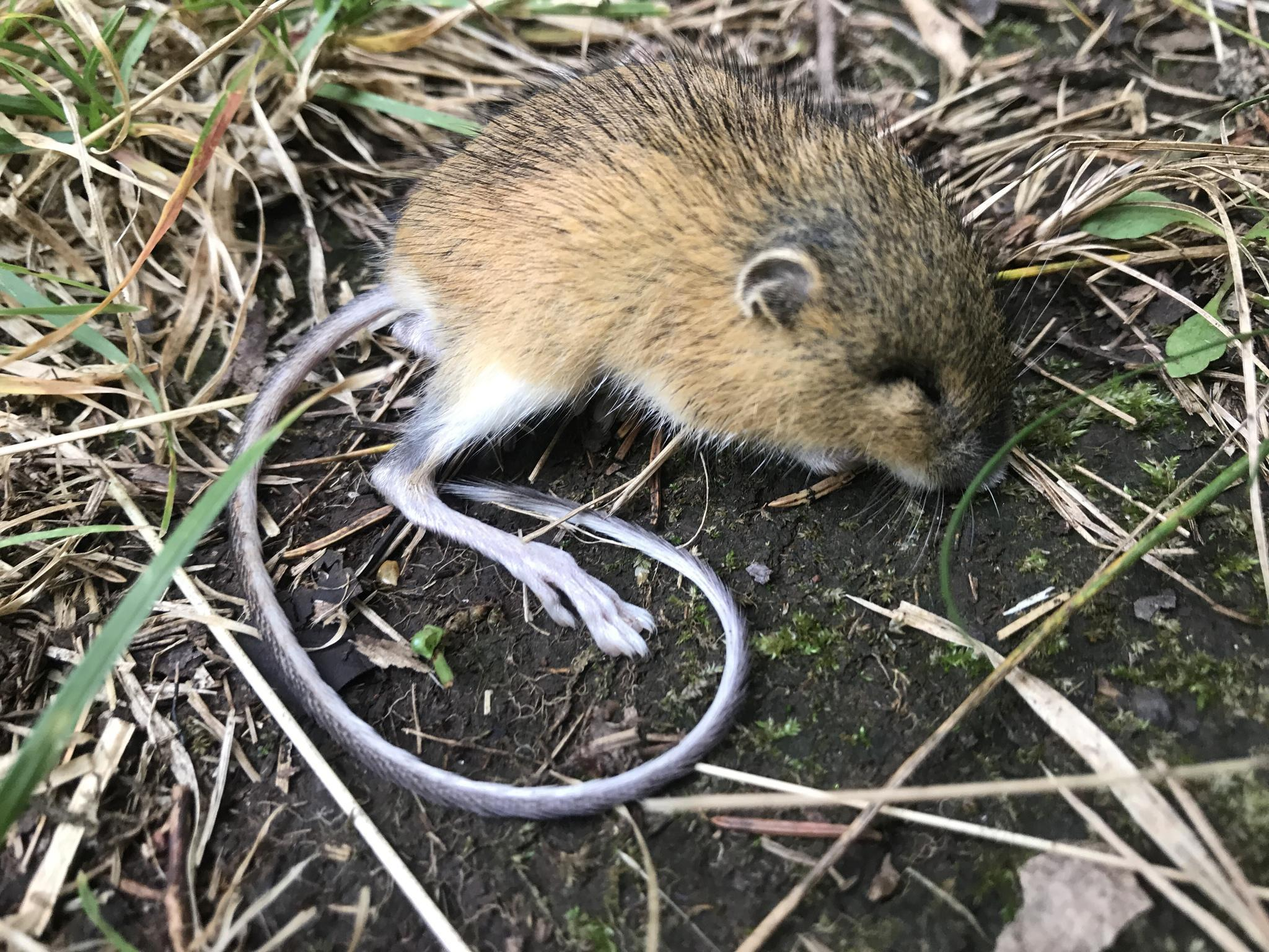rat: (230, 59, 995, 820)
